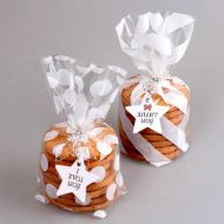snack: (27, 48, 133, 224), (108, 4, 202, 170)
